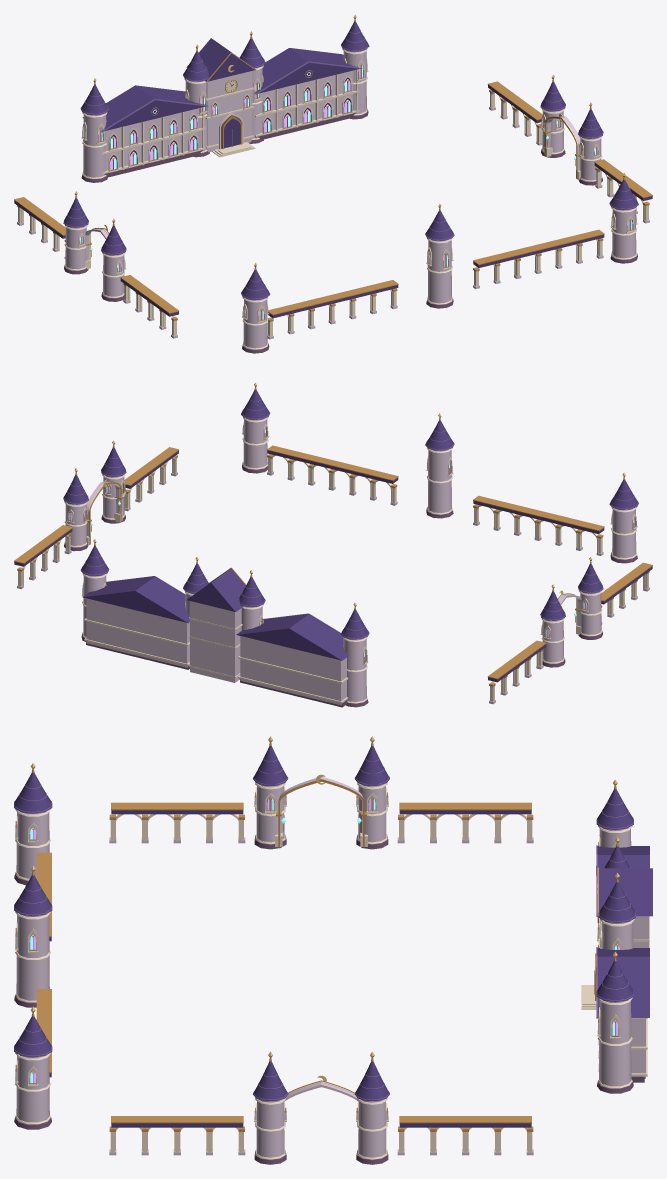
The model's file is academy-model.glb.
3 views of the same model, one above another, from view 1: azimuth 30°, elevation 25°; view 2: azimuth 150°, elevation 25°; view 3: azimuth 270°, elevation 25° (orthographic). The views are drawn at different scales.
Visible parts, largest first — view 1: MILA khanitta · Học viện phép thuật; view 2: MILA khanitta · Học viện phép thuật; view 3: MILA khanitta · Học viện phép thuật.
Boxes of the visible parts, bbox=[...] form: MILA khanitta · Học viện phép thuật: bbox=[14, 14, 652, 353]; MILA khanitta · Học viện phép thuật: bbox=[14, 383, 652, 707]; MILA khanitta · Học viện phép thuật: bbox=[14, 736, 652, 1164].
Size of the model in its own units: 91.99 by 18.93 by 75.35.
